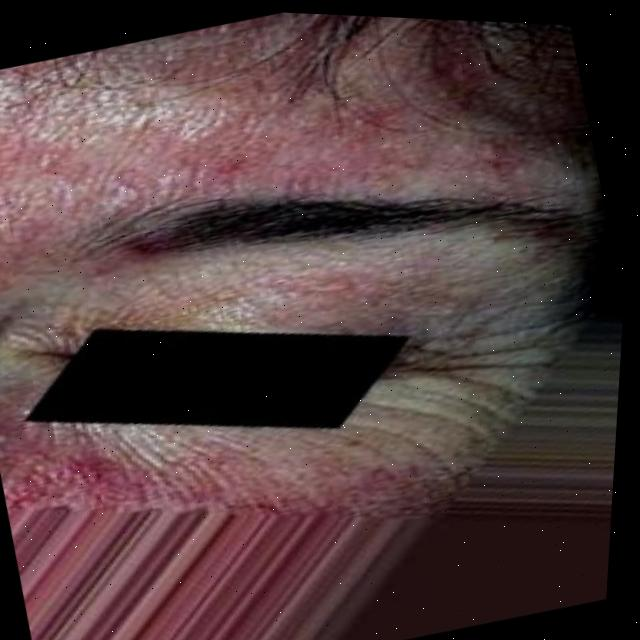Rosacea: (0, 15, 419, 248), (0, 385, 353, 530)
